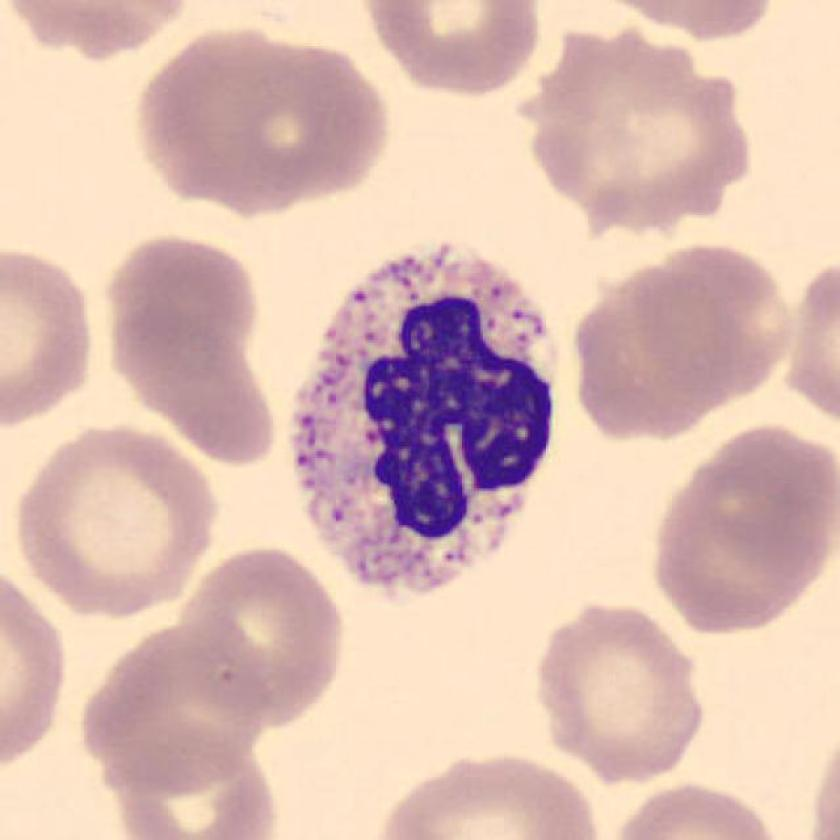neutrophil: (292, 256, 555, 597)
